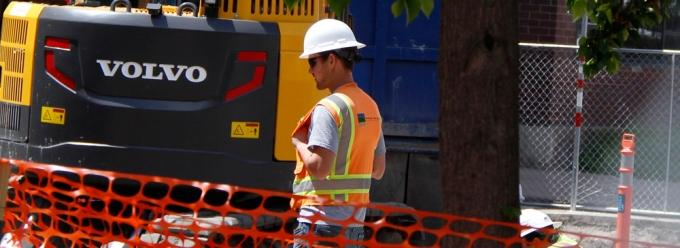helmet: (301, 19, 369, 65)
